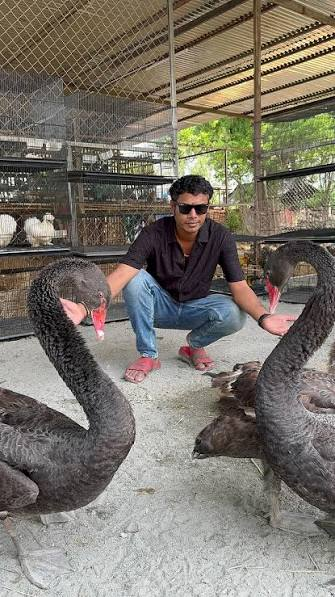black_swan: (0, 255, 133, 579), (254, 241, 335, 543), (192, 376, 334, 458)
